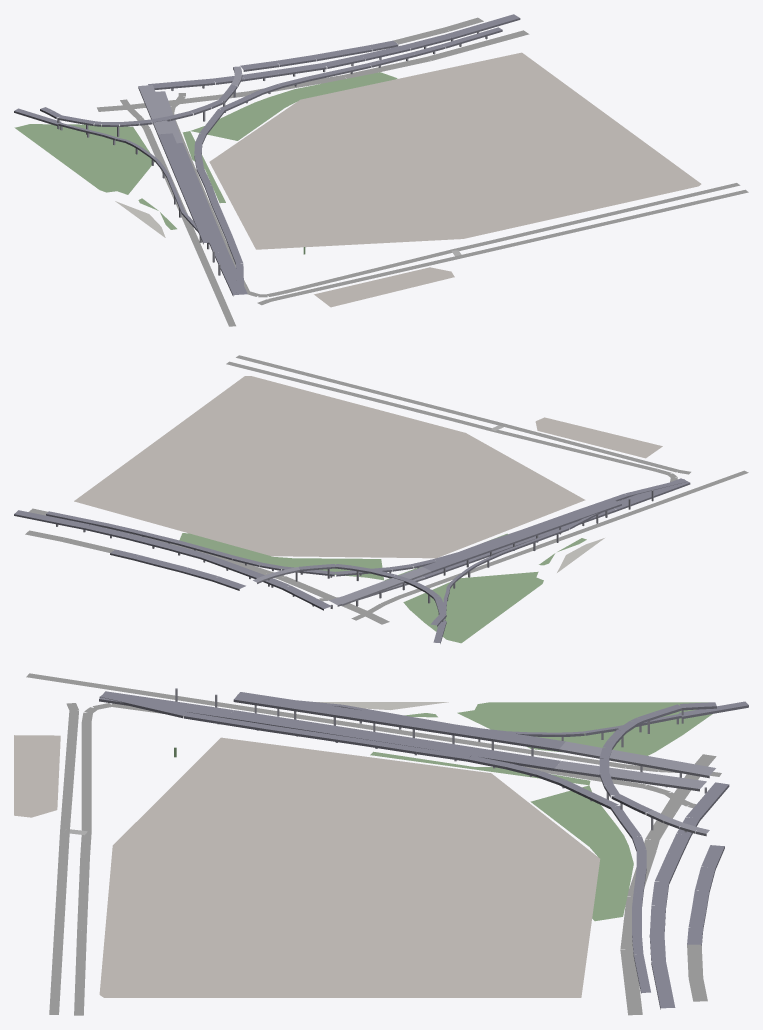
3 renders of one model, top to bottom at view 1: azimuth 30°, elevation 25°; view 2: azimuth 150°, elevation 25°; view 3: azimuth 270°, elevation 25°, orthographic. The views are drawn at different scales.
Size of the model in its own units: 578 by 15.95 by 524.
